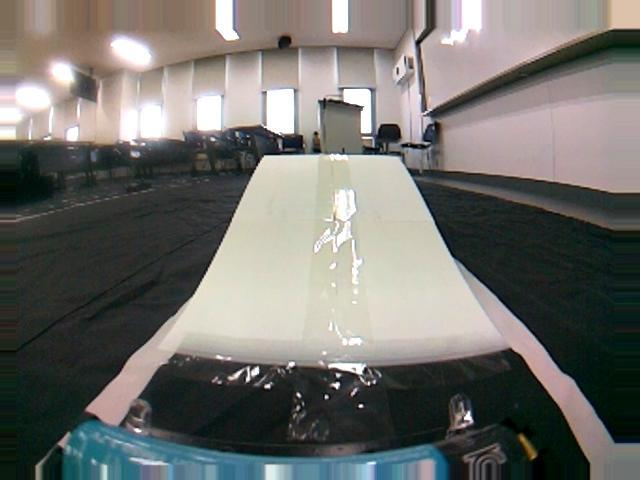hill_up: (2, 147, 640, 480)
